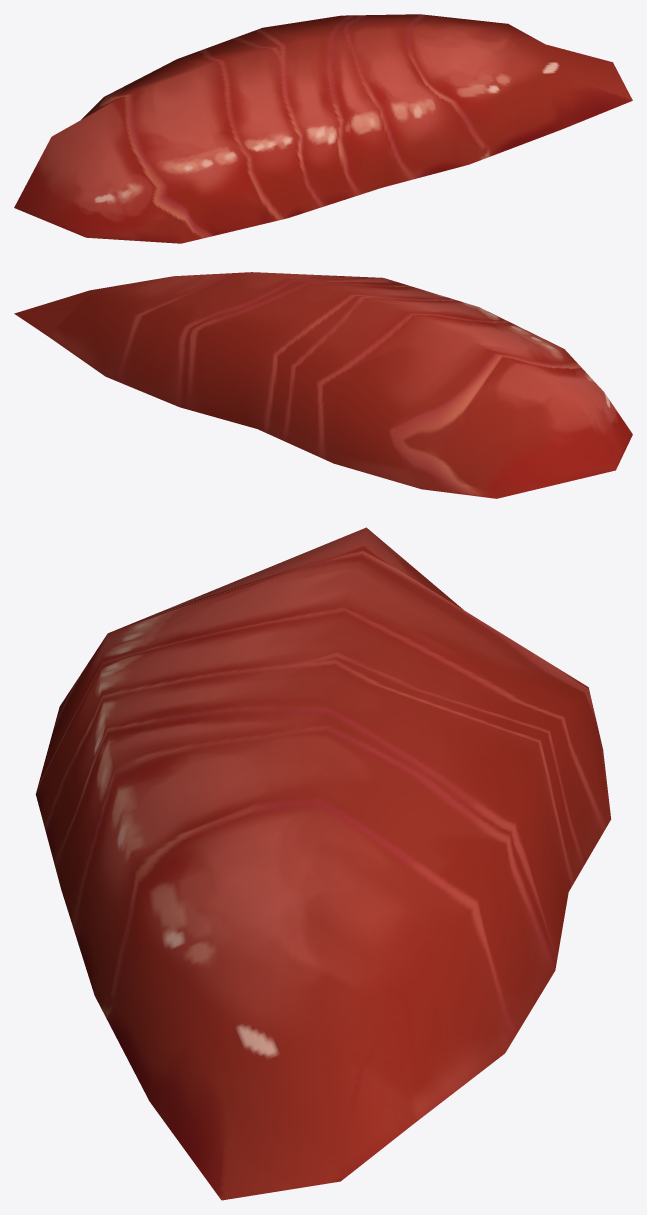
File: SushisMaguroFlat.fbx
3 renders of one model, top to bottom at view 1: azimuth 30°, elevation 25°; view 2: azimuth 150°, elevation 25°; view 3: azimuth 270°, elevation 25°, orthographic. The views are drawn at different scales.
Visible parts, largest first — view 1: SushisMaguroFlat; view 2: SushisMaguroFlat; view 3: SushisMaguroFlat.
Part boxes in pixels (box(x1,y1,x2,y2)): SushisMaguroFlat: box(14, 14, 632, 243); SushisMaguroFlat: box(14, 272, 632, 498); SushisMaguroFlat: box(35, 527, 611, 1200).
Bounding box in the file's own units: 32.43 × 5.94 × 13.61.
